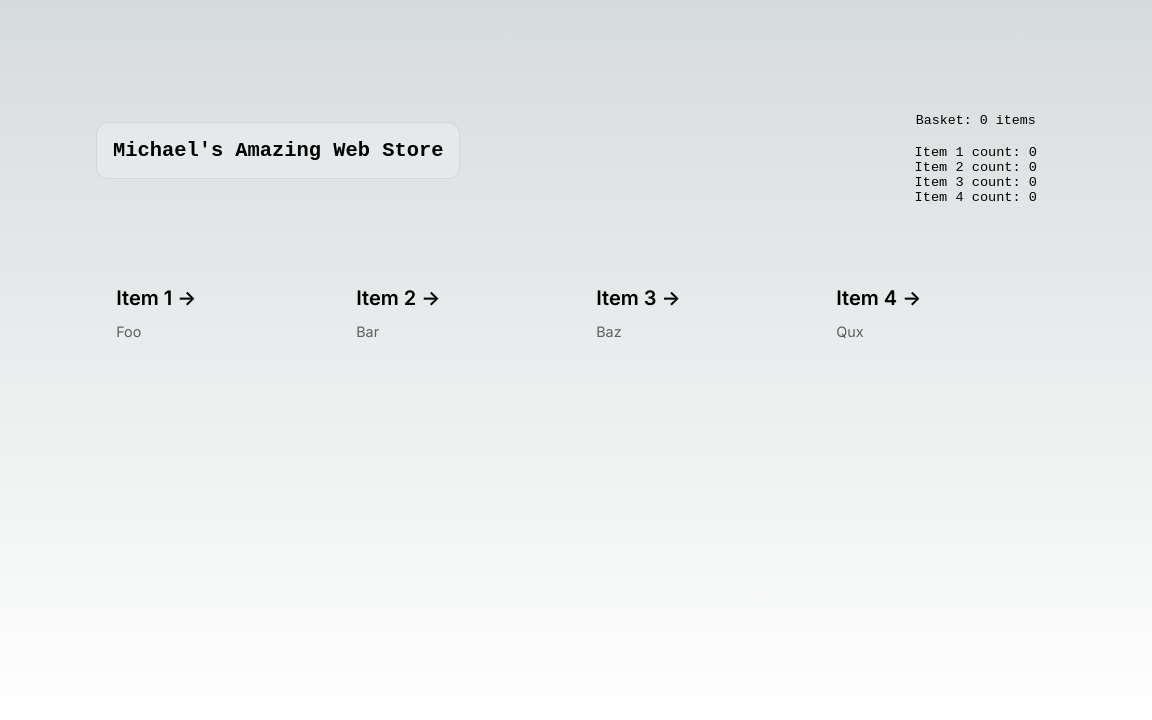
Scenario: Home › renders a basket with 1 item when an item is added
Click the button named "Add to basket" at (216, 314), box [96, 269, 336, 360]
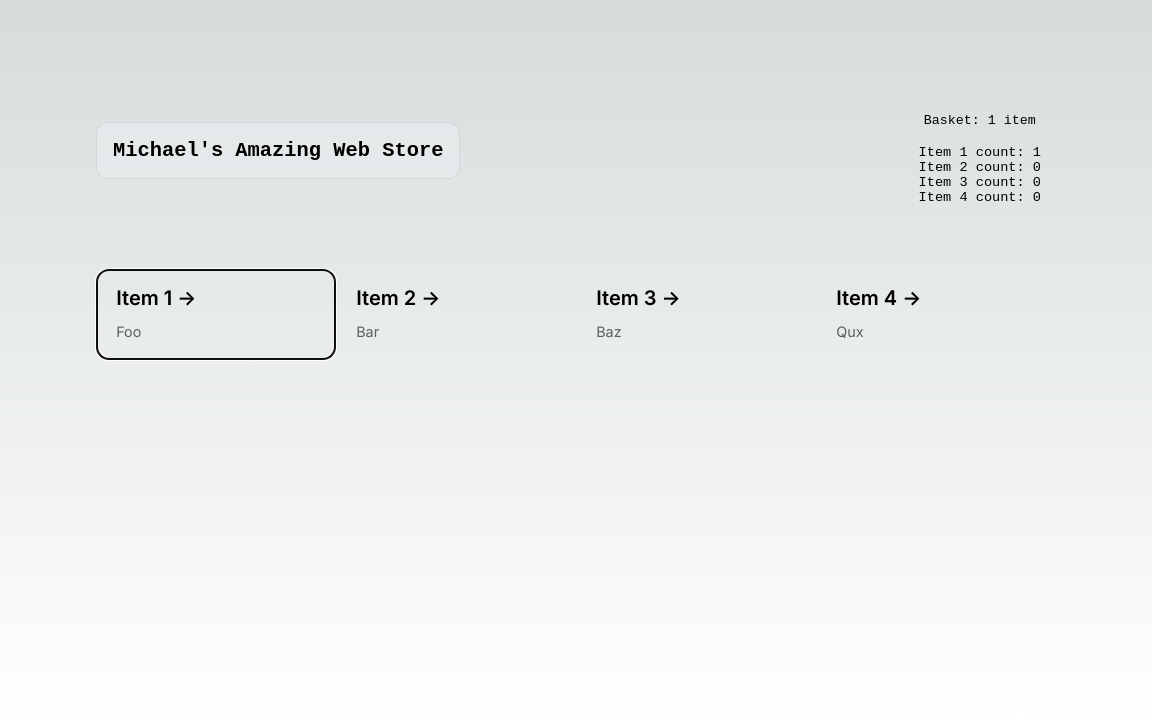
Check: the list item "Item 2 count: 0" is shown, box [919, 160, 1041, 175]
Check: the button "Basket: 1 item" is shown, box [904, 96, 1056, 145]
Check: the list item "Item 1 count: 1" is shown, box [919, 145, 1041, 160]
